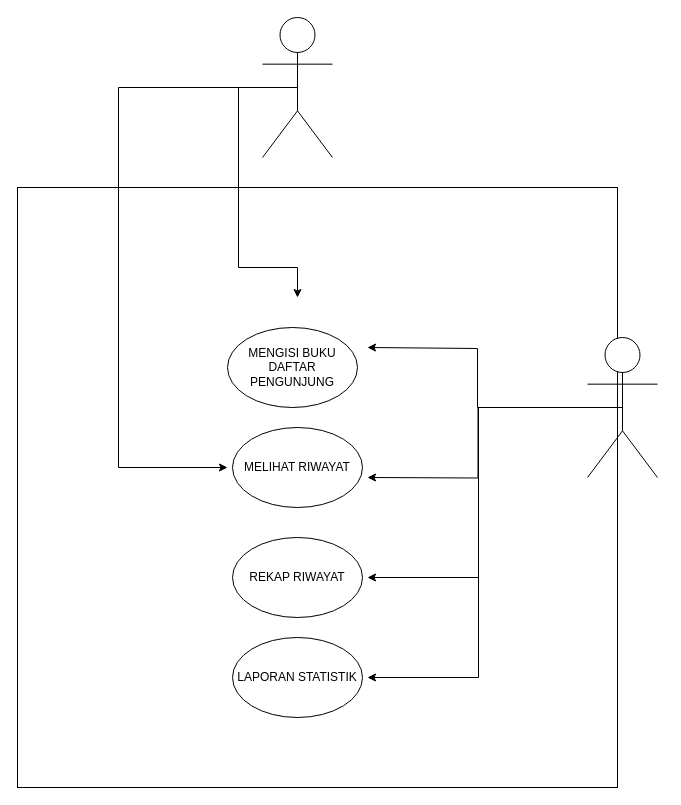
Image size: 681x805. Some labels were removed from this diagram. The shapes that lost their labels are listed below. From the top down, each one's centre as x and y in pixels, then its label:
point 297,87: PENGUNJUNG
point 622,407: PUSTAKAWAN
